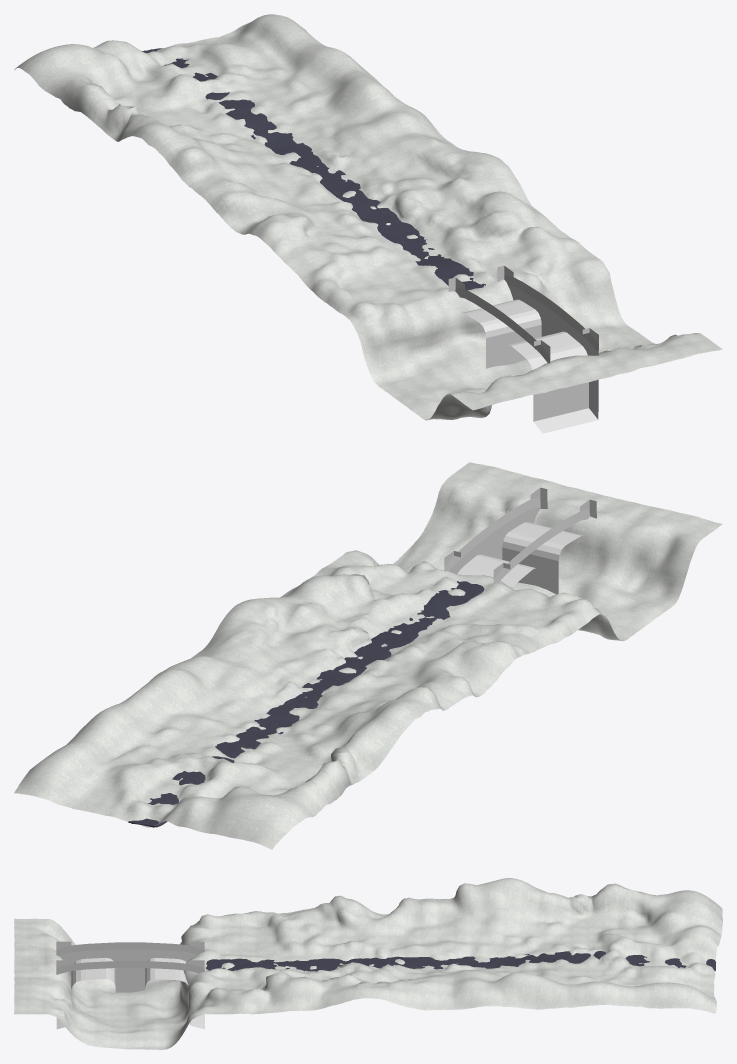
The model's file is CabinLevel1.glb.
3 views of the same model, one above another, from view 1: azimuth 30°, elevation 25°; view 2: azimuth 150°, elevation 25°; view 3: azimuth 270°, elevation 25° (orthographic). The views are drawn at different scales.
Parts seen in each view (by area): view 1: Plane, Cube.001, Cube.003; view 2: Plane, Cube.001, Cube.003; view 3: Plane, Cube.001, Cube.003.
Boxes of the visible parts, x1,y1,x2,y2 form: Plane: (14, 14, 722, 420); Cube.001: (448, 265, 598, 433); Cube.003: (142, 48, 485, 290); Plane: (14, 462, 722, 849); Cube.001: (444, 487, 596, 594); Cube.003: (128, 581, 484, 827); Plane: (14, 878, 722, 1049); Cube.001: (56, 941, 204, 1029); Cube.003: (206, 951, 715, 971).
Bounding box in the file's own units: 230 × 95.52 × 666.
2 materials, 2 textured.
